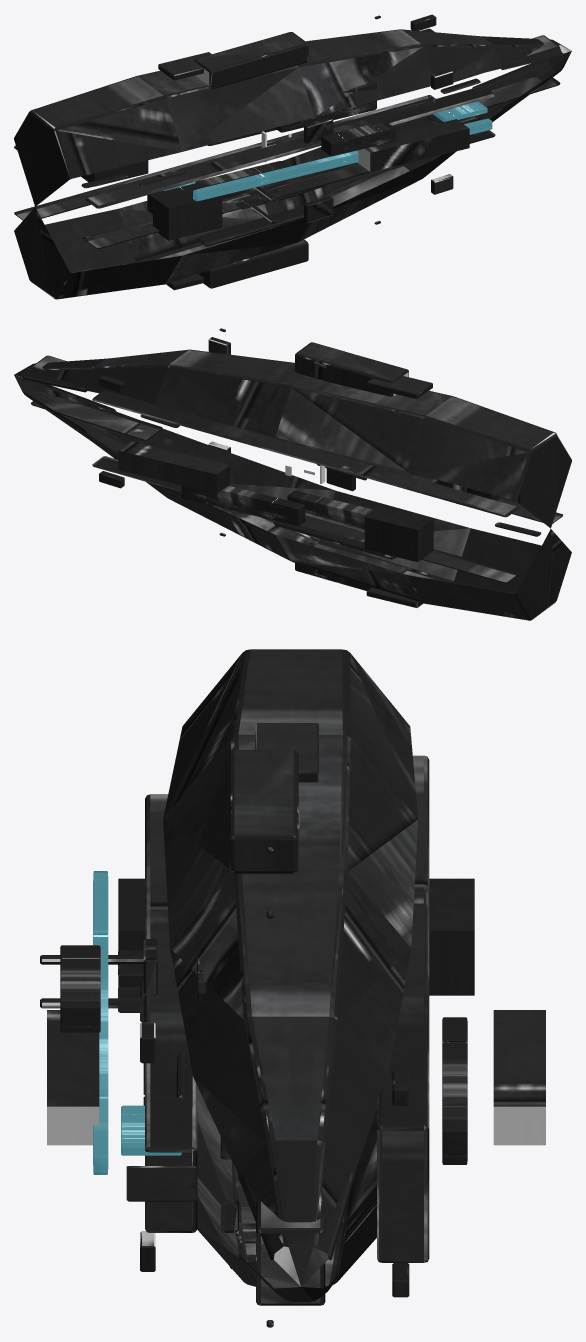
Rendered from hull_frigate.glb.
3 views of the same model, one above another, from view 1: azimuth 30°, elevation 25°; view 2: azimuth 150°, elevation 25°; view 3: azimuth 270°, elevation 25° (orthographic). The views are drawn at different scales.
Parts seen in each view (by area): view 1: LOD0_HULL_FRIGATE_MAIN, DET_squadron_stripe, DET_turret_collar, DET_disciplined_wear, DET_bridge_super, DET_authority_stencil; view 2: LOD0_HULL_FRIGATE_MAIN, DET_engine_vent, DET_disciplined_wear; view 3: LOD0_HULL_FRIGATE_MAIN, DET_engine_vent, DET_squadron_stripe, DET_turret_collar, DET_authority_stencil.
Boxes of the visible parts, bbox=[...] form: LOD0_HULL_FRIGATE_MAIN: bbox=[14, 14, 571, 299]; DET_squadron_stripe: bbox=[193, 118, 492, 201]; DET_turret_collar: bbox=[321, 121, 395, 156]; DET_disciplined_wear: bbox=[147, 161, 288, 214]; DET_bridge_super: bbox=[275, 82, 376, 132]; DET_authority_stencil: bbox=[433, 101, 487, 121]; LOD0_HULL_FRIGATE_MAIN: bbox=[14, 328, 571, 620]; DET_engine_vent: bbox=[181, 485, 305, 525]; DET_disciplined_wear: bbox=[287, 491, 373, 529]; LOD0_HULL_FRIGATE_MAIN: bbox=[40, 649, 545, 1327]; DET_engine_vent: bbox=[442, 1017, 467, 1164]; DET_squadron_stripe: bbox=[93, 871, 108, 1174]; DET_turret_collar: bbox=[60, 945, 100, 1032]; DET_authority_stencil: bbox=[121, 1105, 181, 1155].
Size of the model in its own units: 13.02 by 5.15 by 5.32.
3 materials, 3 textured.
